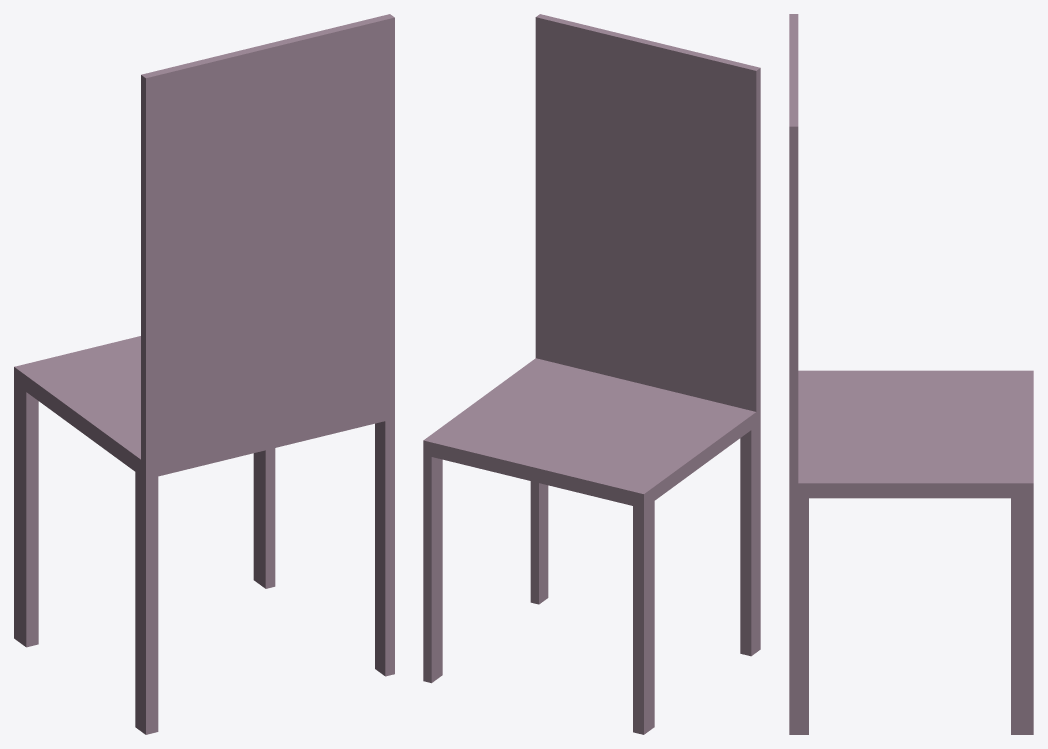
Rendered from Chair.fbx.
3 views of the same model, side by side, from view 1: azimuth 30°, elevation 25°; view 2: azimuth 150°, elevation 25°; view 3: azimuth 270°, elevation 25° (orthographic). The views are drawn at different scales.
Visible parts, largest first — view 1: Chair; view 2: Chair; view 3: Chair.
Boxes of the visible parts, <box> form: Chair: <box>14,14,394,734</box>; Chair: <box>423,14,760,734</box>; Chair: <box>789,14,1033,734</box>.
Bounding box in the file's own units: 54.12 × 136 × 49.6.
